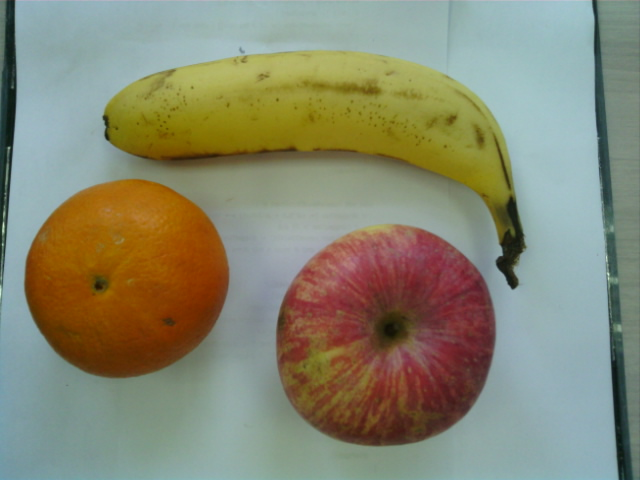normal_apple: (275, 223, 498, 450)
normal_banana: (101, 45, 511, 182)
normal_orange: (25, 177, 231, 381)
